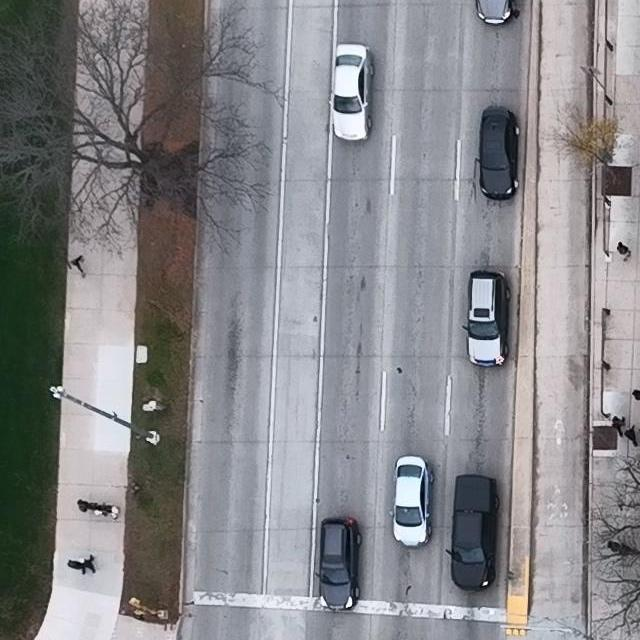car: (445, 474, 500, 593), (462, 270, 512, 367), (315, 515, 363, 612), (328, 43, 373, 141), (389, 455, 435, 549), (478, 107, 520, 202), (475, 0, 515, 25)
